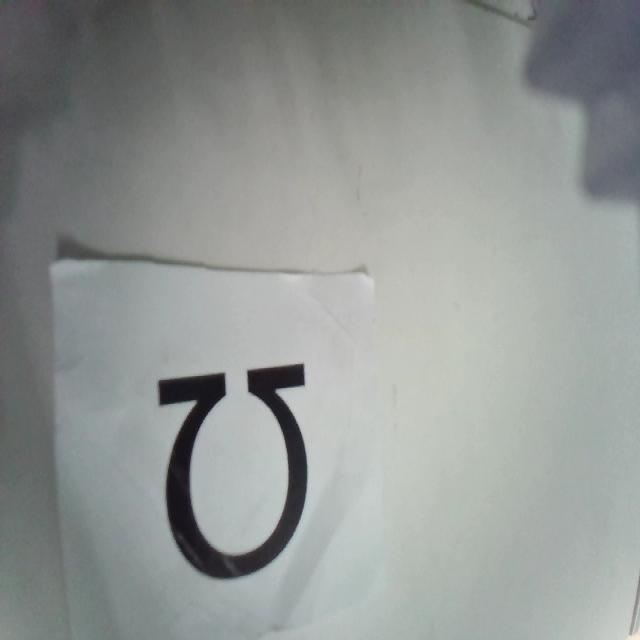OM: (156, 360, 314, 577)
